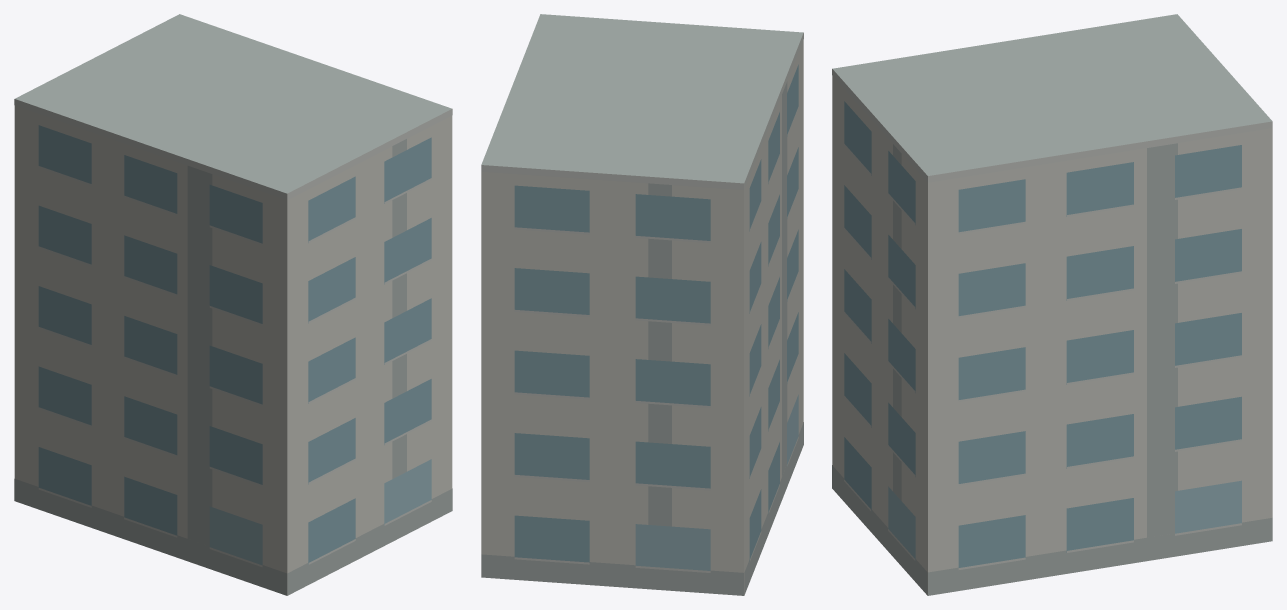
The model's file is residential-294eb770-9476-496e-b20a-ab0d843a1103.glb.
The picture shows the model from 3 angles, left to right: view 1: azimuth 30°, elevation 25°; view 2: azimuth 150°, elevation 25°; view 3: azimuth 270°, elevation 25°; orthographic projection. The views are drawn at different scales.
Parts seen in each view (by area): view 1: residential-294eb770-9476-496e-b20a-ab0d843a1103.tmp; view 2: residential-294eb770-9476-496e-b20a-ab0d843a1103.tmp; view 3: residential-294eb770-9476-496e-b20a-ab0d843a1103.tmp.
Boxes of the visible parts, left/top/right/bottom form: residential-294eb770-9476-496e-b20a-ab0d843a1103.tmp: left=14, top=14, right=452, bottom=595; residential-294eb770-9476-496e-b20a-ab0d843a1103.tmp: left=481, top=14, right=803, bottom=595; residential-294eb770-9476-496e-b20a-ab0d843a1103.tmp: left=832, top=14, right=1272, bottom=595.
Bounding box in the file's own units: 12.43 × 15 × 14.27.
